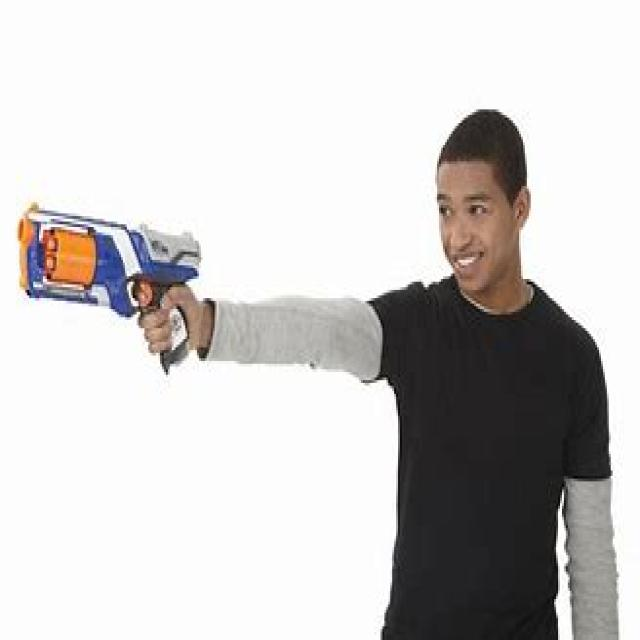nerf-maverik: (6, 195, 218, 382)
